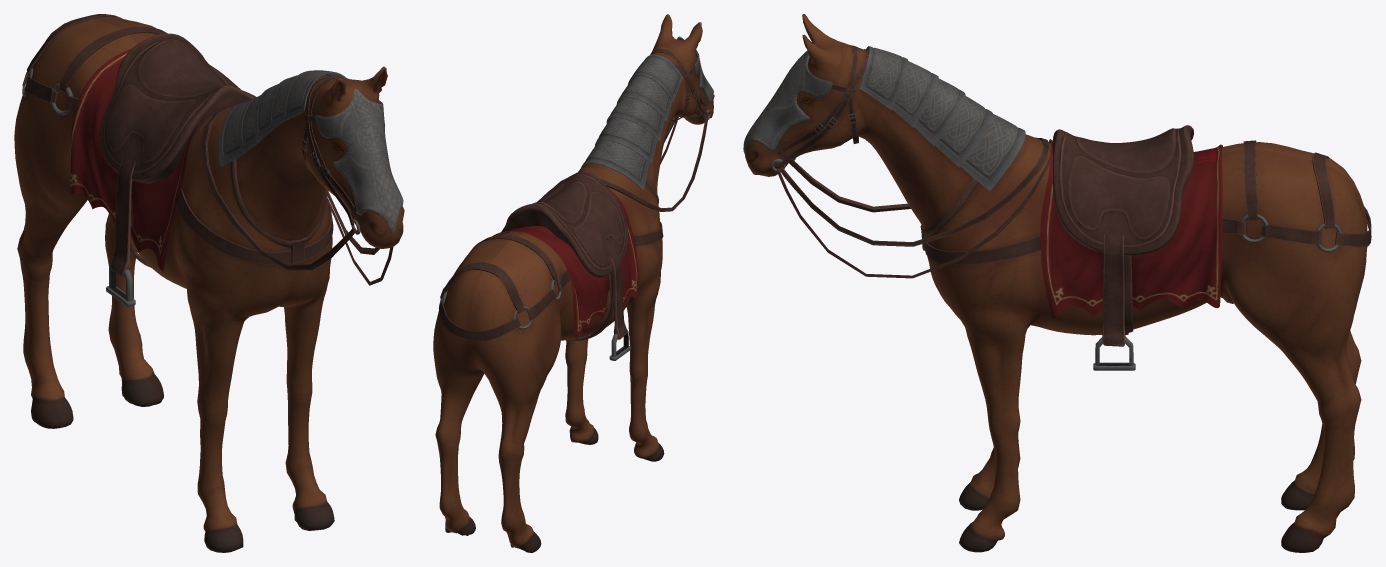
The model's file is armored_horse.glb.
3 views of the same model, side by side, from view 1: azimuth 30°, elevation 25°; view 2: azimuth 150°, elevation 25°; view 3: azimuth 270°, elevation 25° (orthographic). The views are drawn at different scales.
Parts seen in each view (by area): view 1: Horselowpoly (×5); view 2: Horselowpoly (×5); view 3: Horselowpoly (×5).
Part boxes in pixels (left/top/right/bottom): Horselowpoly (×5): left=14, top=14, right=404, bottom=552; Horselowpoly (×5): left=433, top=14, right=714, bottom=552; Horselowpoly (×5): left=743, top=14, right=1371, bottom=552.
Bounding box in the file's own units: 0.6514 × 2.02 × 2.29.
4 materials, 4 textured.
